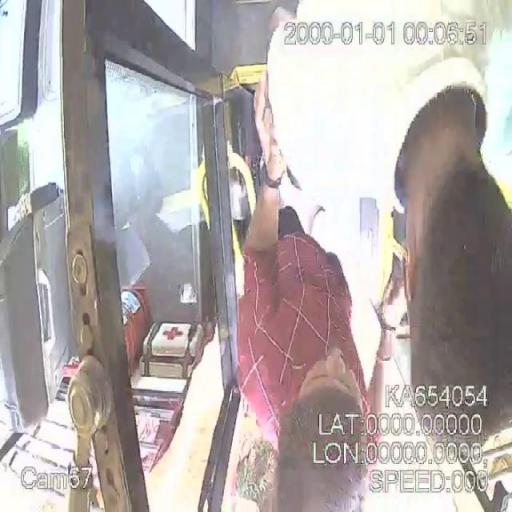persona: (222, 67, 372, 511), (386, 80, 511, 510)
